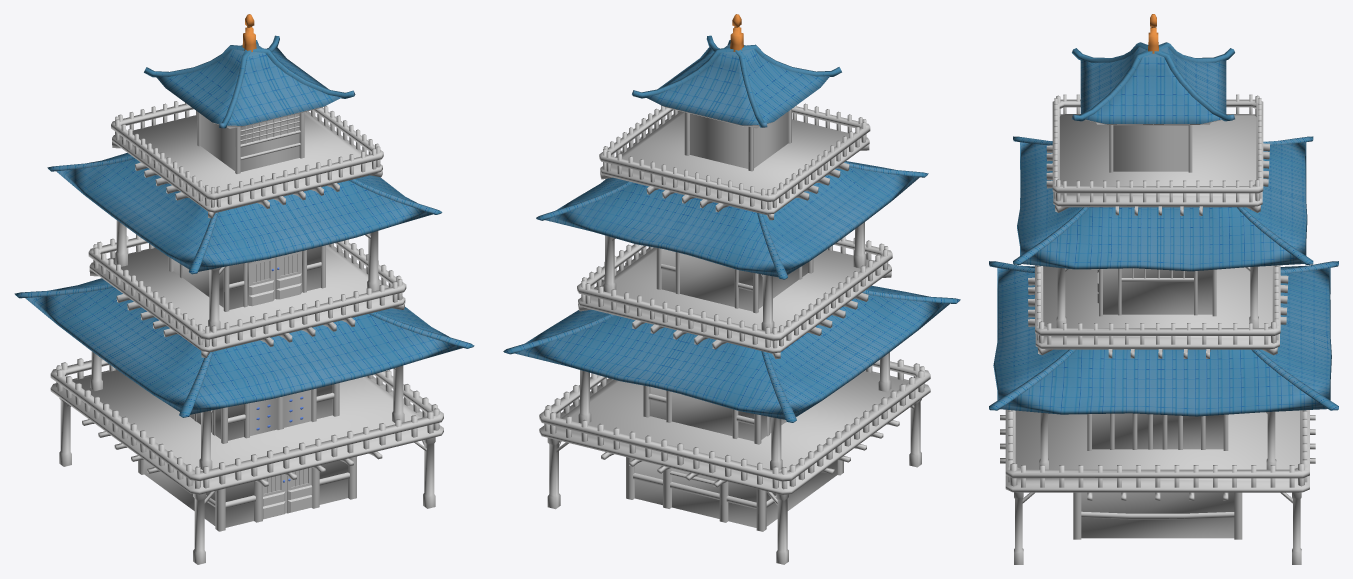
The model's file is Pagoda.fbx.
The picture shows the model from 3 angles, left to right: view 1: azimuth 30°, elevation 25°; view 2: azimuth 150°, elevation 25°; view 3: azimuth 270°, elevation 25°; orthographic projection. The views are drawn at different scales.
Parts seen in each view (by area): view 1: Pagoda; view 2: Pagoda; view 3: Pagoda.
Boxes of the visible parts, left/top/right/bottom form: Pagoda: left=14, top=14, right=474, bottom=564; Pagoda: left=503, top=14, right=960, bottom=564; Pagoda: left=989, top=14, right=1338, bottom=564.
Bounding box in the file's own units: 10.13 × 15.65 × 10.12.
